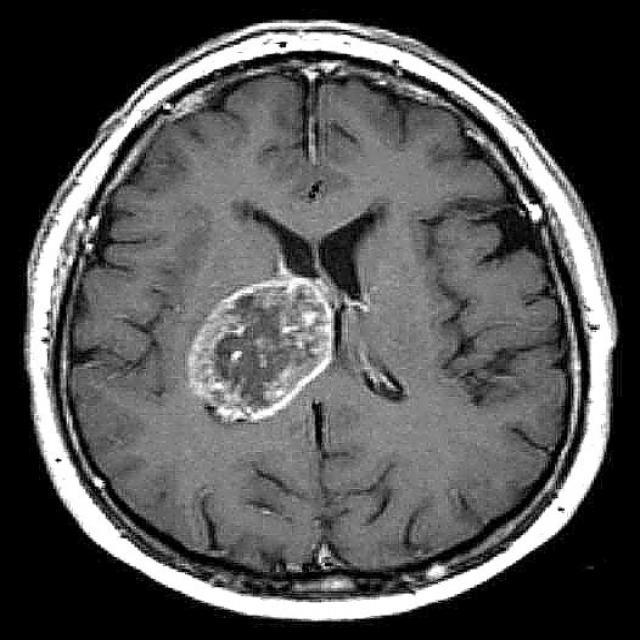Tumor: (178, 270, 346, 441)
